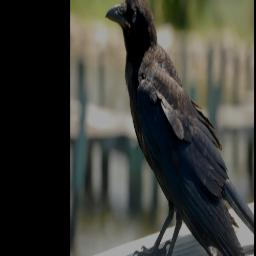Crow: (104, 0, 253, 256)
